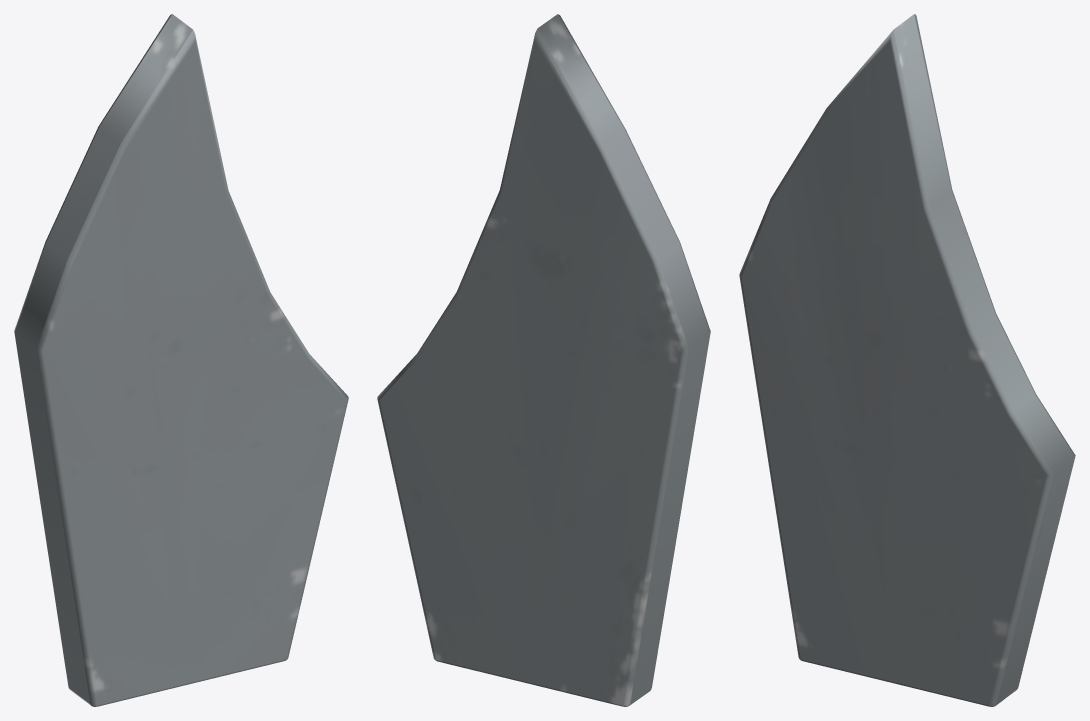
File: verre_brisee_petit_morceau.fbx
3 renders of one model, left to right at view 1: azimuth 30°, elevation 25°; view 2: azimuth 150°, elevation 25°; view 3: azimuth 330°, elevation 25°, orthographic.
Parts seen in each view (by area): view 1: verre_brisee_petit_morceau; view 2: verre_brisee_petit_morceau; view 3: verre_brisee_petit_morceau.
Boxes of the visible parts, x1,y1,x2,y2 form: verre_brisee_petit_morceau: (14, 14, 348, 706); verre_brisee_petit_morceau: (377, 14, 710, 706); verre_brisee_petit_morceau: (739, 14, 1075, 706).
Size of the model in its own units: 0.011 by 0.0221 by 0.00191.
